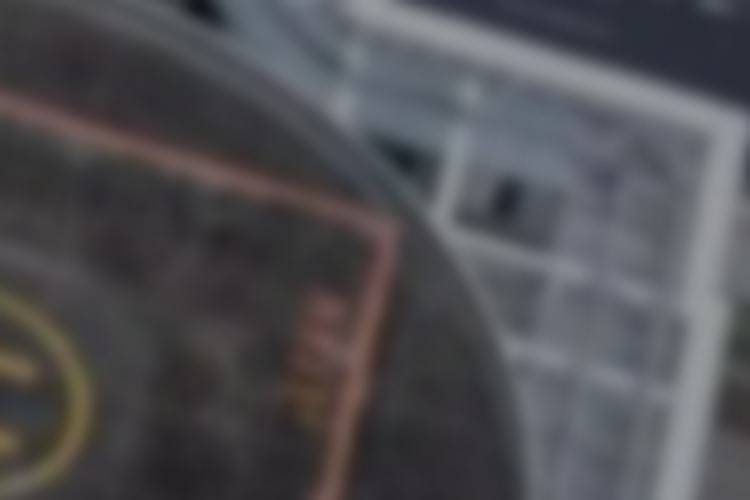Apron: (1, 236, 109, 494)
